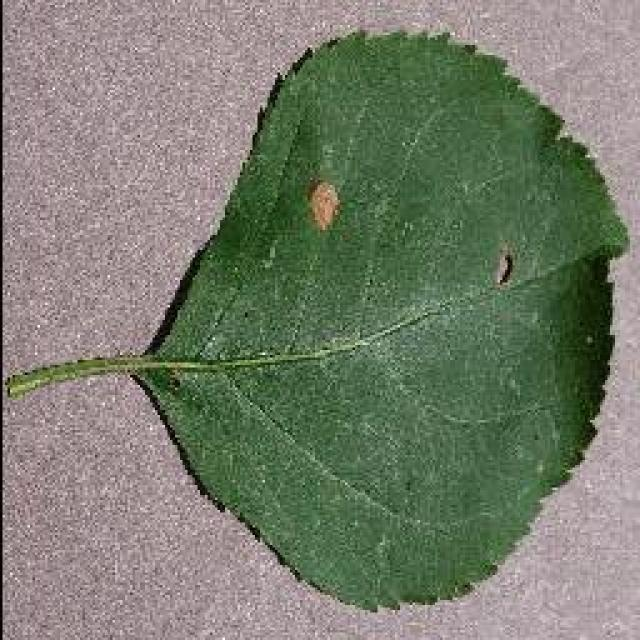apple black rot: (125, 25, 630, 613)
